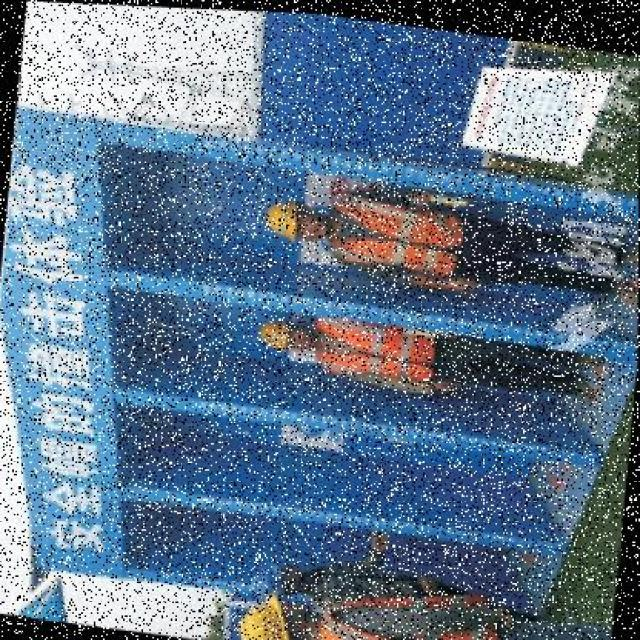helmet: (237, 579, 319, 639), (262, 188, 308, 245), (257, 309, 297, 353)
vest: (311, 563, 529, 639), (331, 186, 476, 284), (302, 311, 453, 384)
